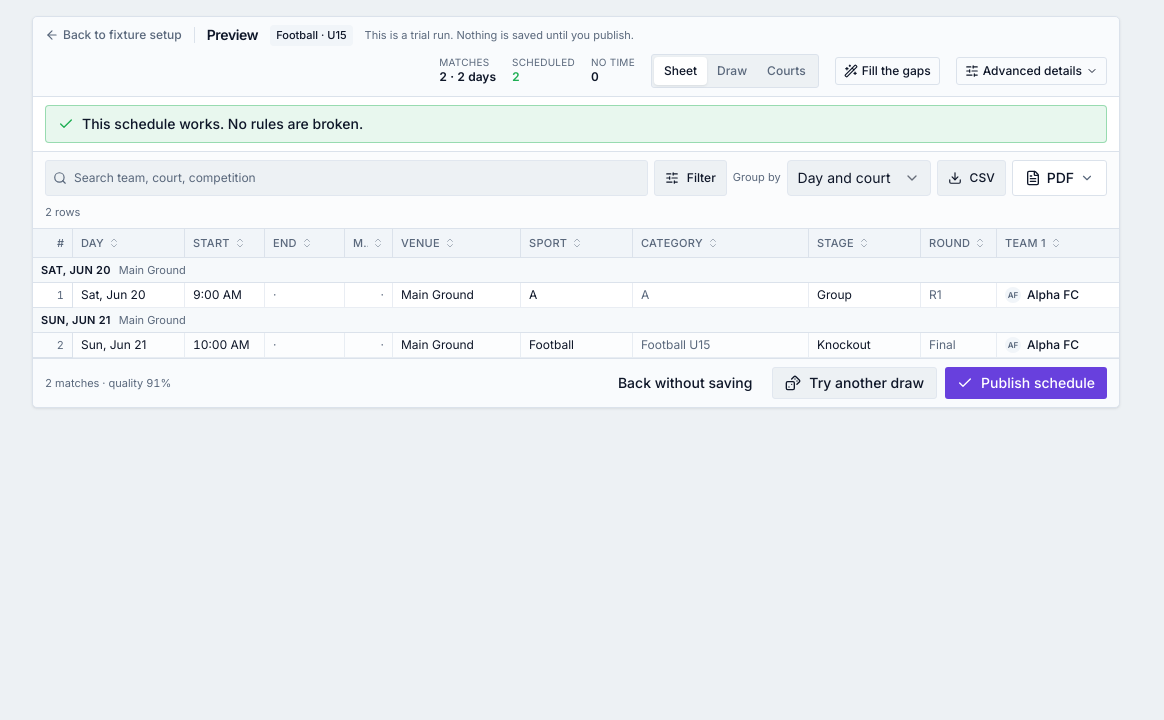
it: DryRunPreviewPage › fairness flags render plain explanations inside Advanced details
Check: the element with test id "matches-spreadsheet" is shown, box [33, 229, 1119, 358]
Click the button with test id "advanced-details-toggle" at (1031, 70), box [956, 56, 1107, 84]
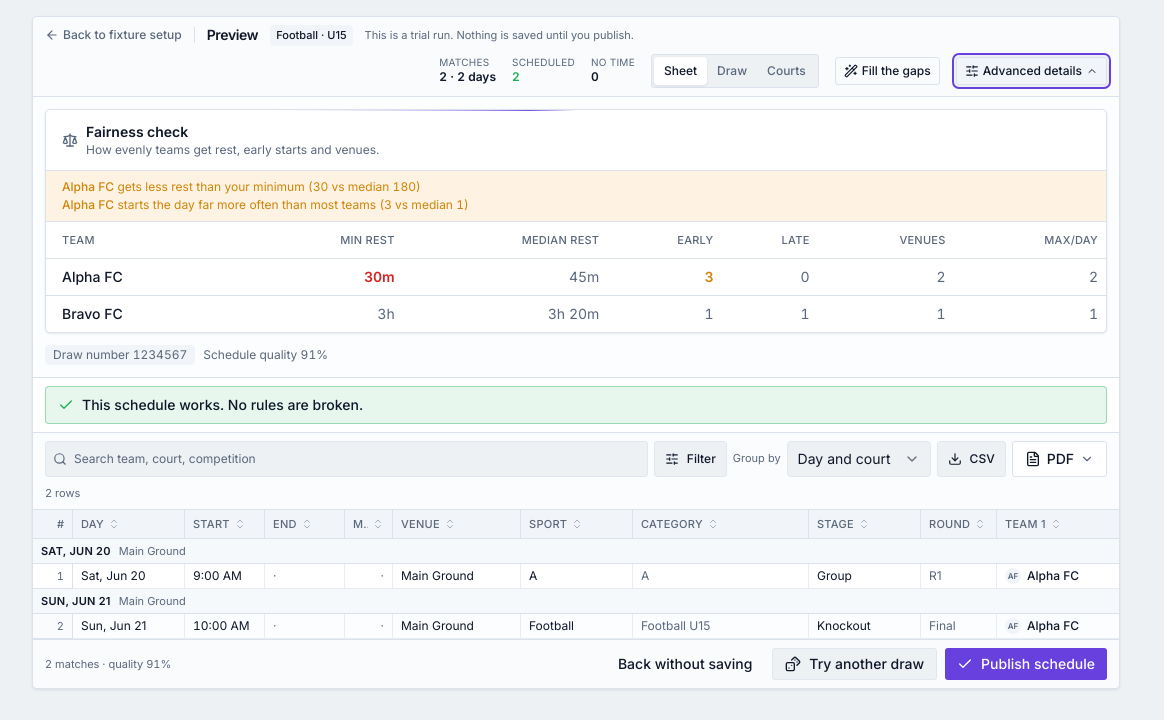
Check: the element with test id "fairness-panel" is shown, box [45, 108, 1107, 332]
Check: the row with test id "fairness-row-tm1" shows "Alpha FC", box [62, 268, 123, 284]
Check: the row with test id "fairness-row-tm1" shows "30m", box [364, 268, 395, 284]
